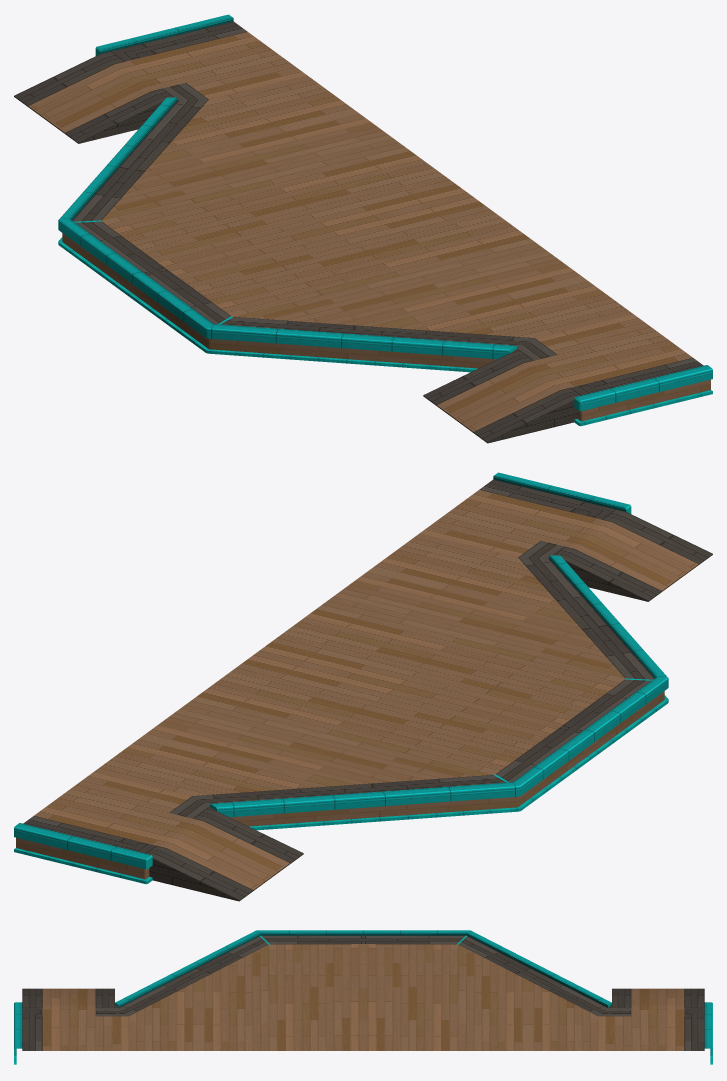
The model's file is Stage.fbx.
3 views of the same model, one above another, from view 1: azimuth 30°, elevation 25°; view 2: azimuth 150°, elevation 25°; view 3: azimuth 270°, elevation 25° (orthographic). The views are drawn at different scales.
Visible parts, largest first — view 1: Stage; view 2: Stage; view 3: Stage.
Boxes of the visible parts, x1,y1,x2,y2 form: Stage: (14,14,712,443); Stage: (14,472,712,901); Stage: (14,930,712,1064).
Bounding box in the file's own units: 1064 × 75.51 × 2643.
